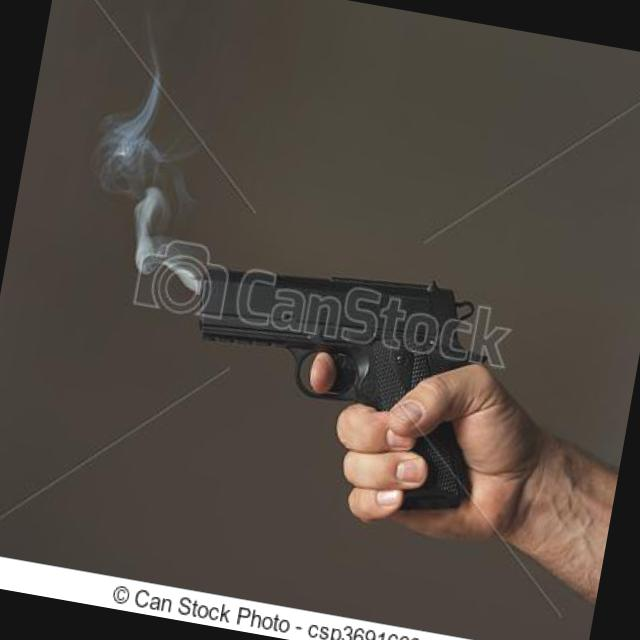handgun: (162, 238, 511, 519)
